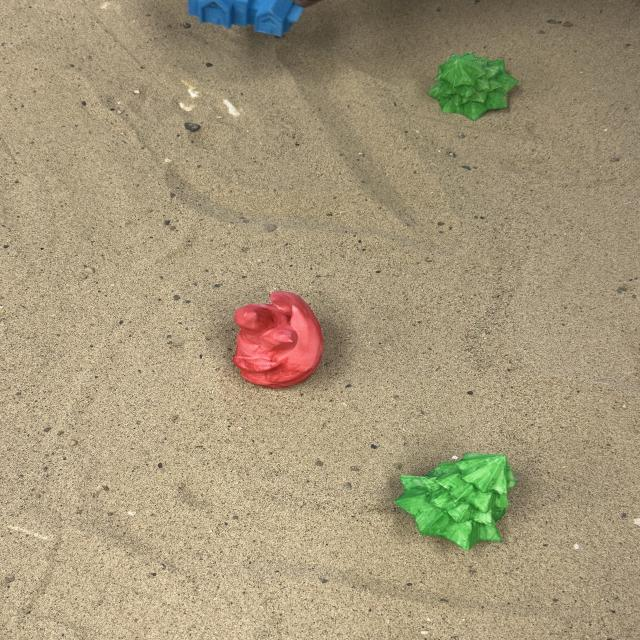fire: (230, 290, 324, 389)
house: (186, 0, 304, 38)
tree: (393, 452, 517, 552), (427, 51, 519, 121)
